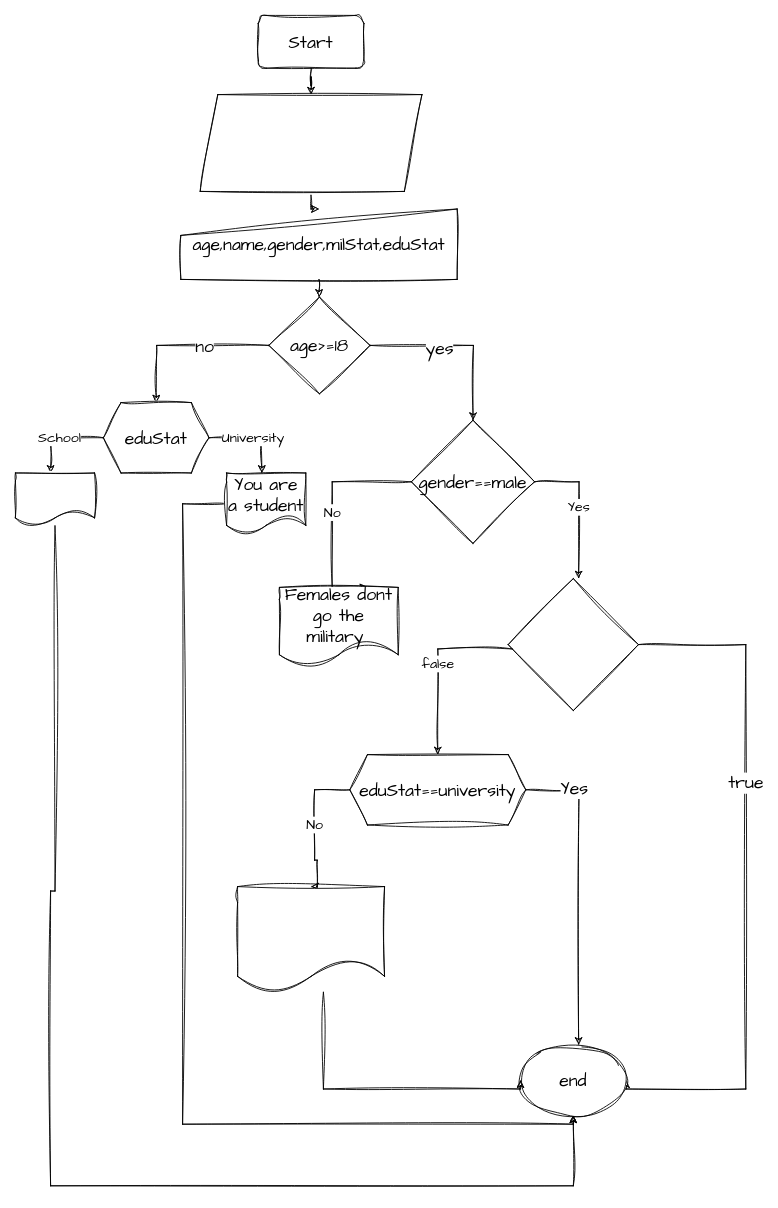
Image size: 778x1208. Some labels were removed from this diagram. Here are the shapes that lost their labels. From the top down, the centre of each, then its label:
At [310,142]: "name,age,gender, milStat,eduStat".
At [55,499]: "You are a child".
At [572,644]: "milStat".
At [311,939]: "Pack up son, your country needs you!".
